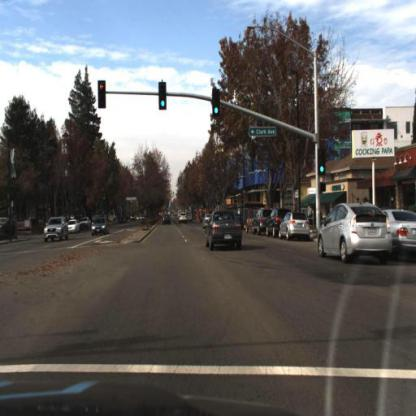car: (318, 199, 393, 263), (370, 209, 416, 266), (205, 209, 244, 251), (277, 210, 312, 240), (41, 211, 72, 243), (281, 211, 310, 238), (44, 215, 71, 242), (266, 208, 288, 240), (266, 209, 284, 241), (251, 209, 266, 238), (92, 218, 108, 236), (201, 210, 213, 234), (163, 209, 178, 228), (68, 219, 82, 237), (318, 149, 326, 179), (178, 209, 190, 226)
trafficLight-Green: (211, 88, 223, 119), (159, 80, 167, 112), (213, 101, 221, 118), (317, 164, 326, 179), (159, 96, 167, 112)
trafficLight-Red: (100, 81, 108, 99)
trafficLight-RedLeft: (96, 73, 106, 115)
